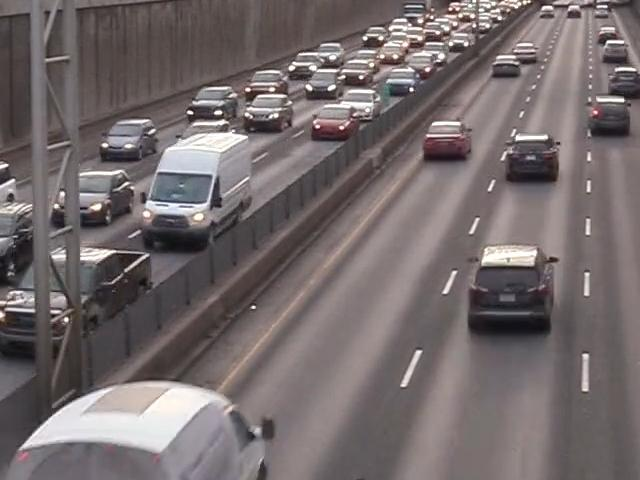car: (457, 245, 572, 340), (50, 163, 140, 226), (0, 200, 55, 285), (500, 128, 565, 190), (246, 94, 306, 134), (183, 83, 243, 120), (96, 119, 160, 153), (586, 94, 633, 133), (423, 120, 470, 159), (341, 84, 386, 119), (316, 106, 357, 134), (611, 61, 640, 98), (304, 70, 340, 97), (249, 71, 287, 96), (384, 66, 420, 89), (409, 51, 440, 76), (319, 40, 347, 64), (514, 41, 543, 63), (343, 61, 371, 80), (497, 56, 520, 77), (603, 41, 627, 61), (380, 43, 403, 63), (291, 51, 314, 71), (360, 50, 381, 70), (367, 24, 390, 41), (597, 24, 617, 40)
pickup-truck: (0, 246, 166, 356)
van: (3, 381, 281, 480), (137, 132, 258, 247)
